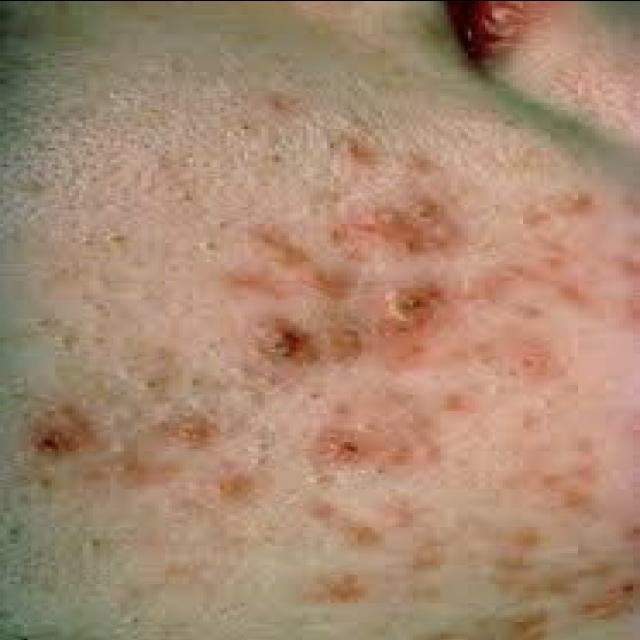Acne: (326, 196, 462, 258), (14, 400, 108, 460), (252, 312, 322, 374), (372, 280, 448, 328), (305, 424, 381, 470), (153, 404, 220, 452)
